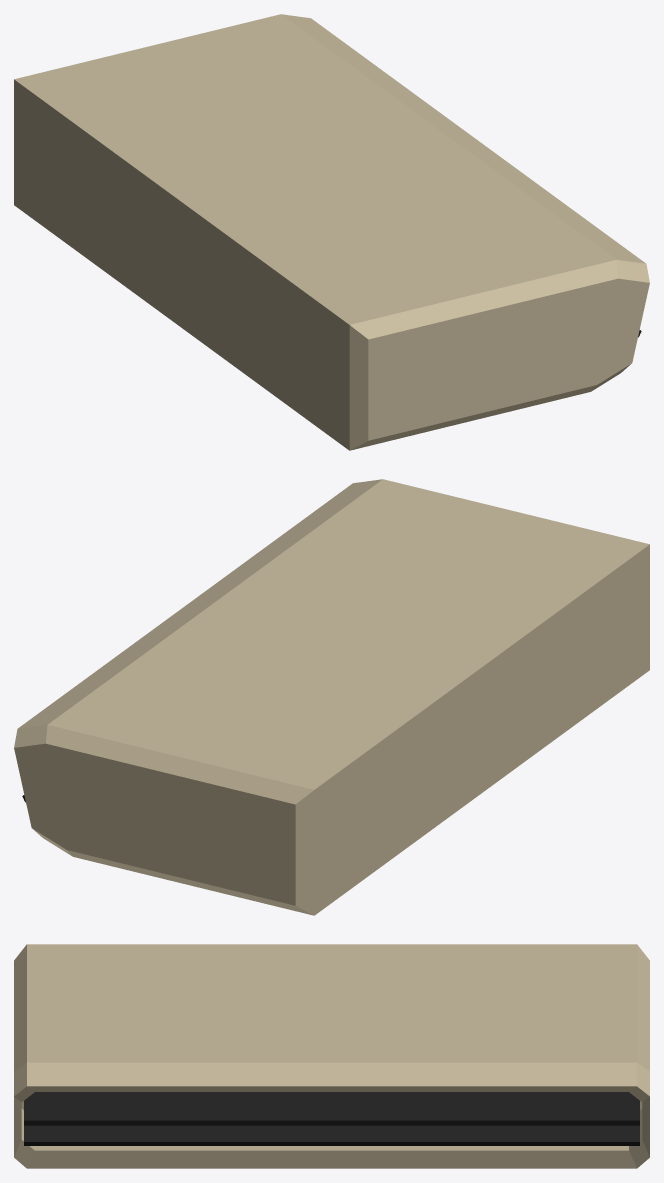
Rendered from Ar-Condicionado.fbx.
3 views of the same model, one above another, from view 1: azimuth 30°, elevation 25°; view 2: azimuth 150°, elevation 25°; view 3: azimuth 270°, elevation 25° (orthographic). The views are drawn at different scales.
Visible parts, largest first — view 1: Cubo.869; view 2: Cubo.869; view 3: Cubo.869.
Boxes of the visible parts, bbox=[...] form: Cubo.869: bbox=[14, 14, 649, 450]; Cubo.869: bbox=[14, 479, 649, 915]; Cubo.869: bbox=[14, 944, 649, 1168].
Bounding box in the file's own units: 213 × 86.06 × 433.
